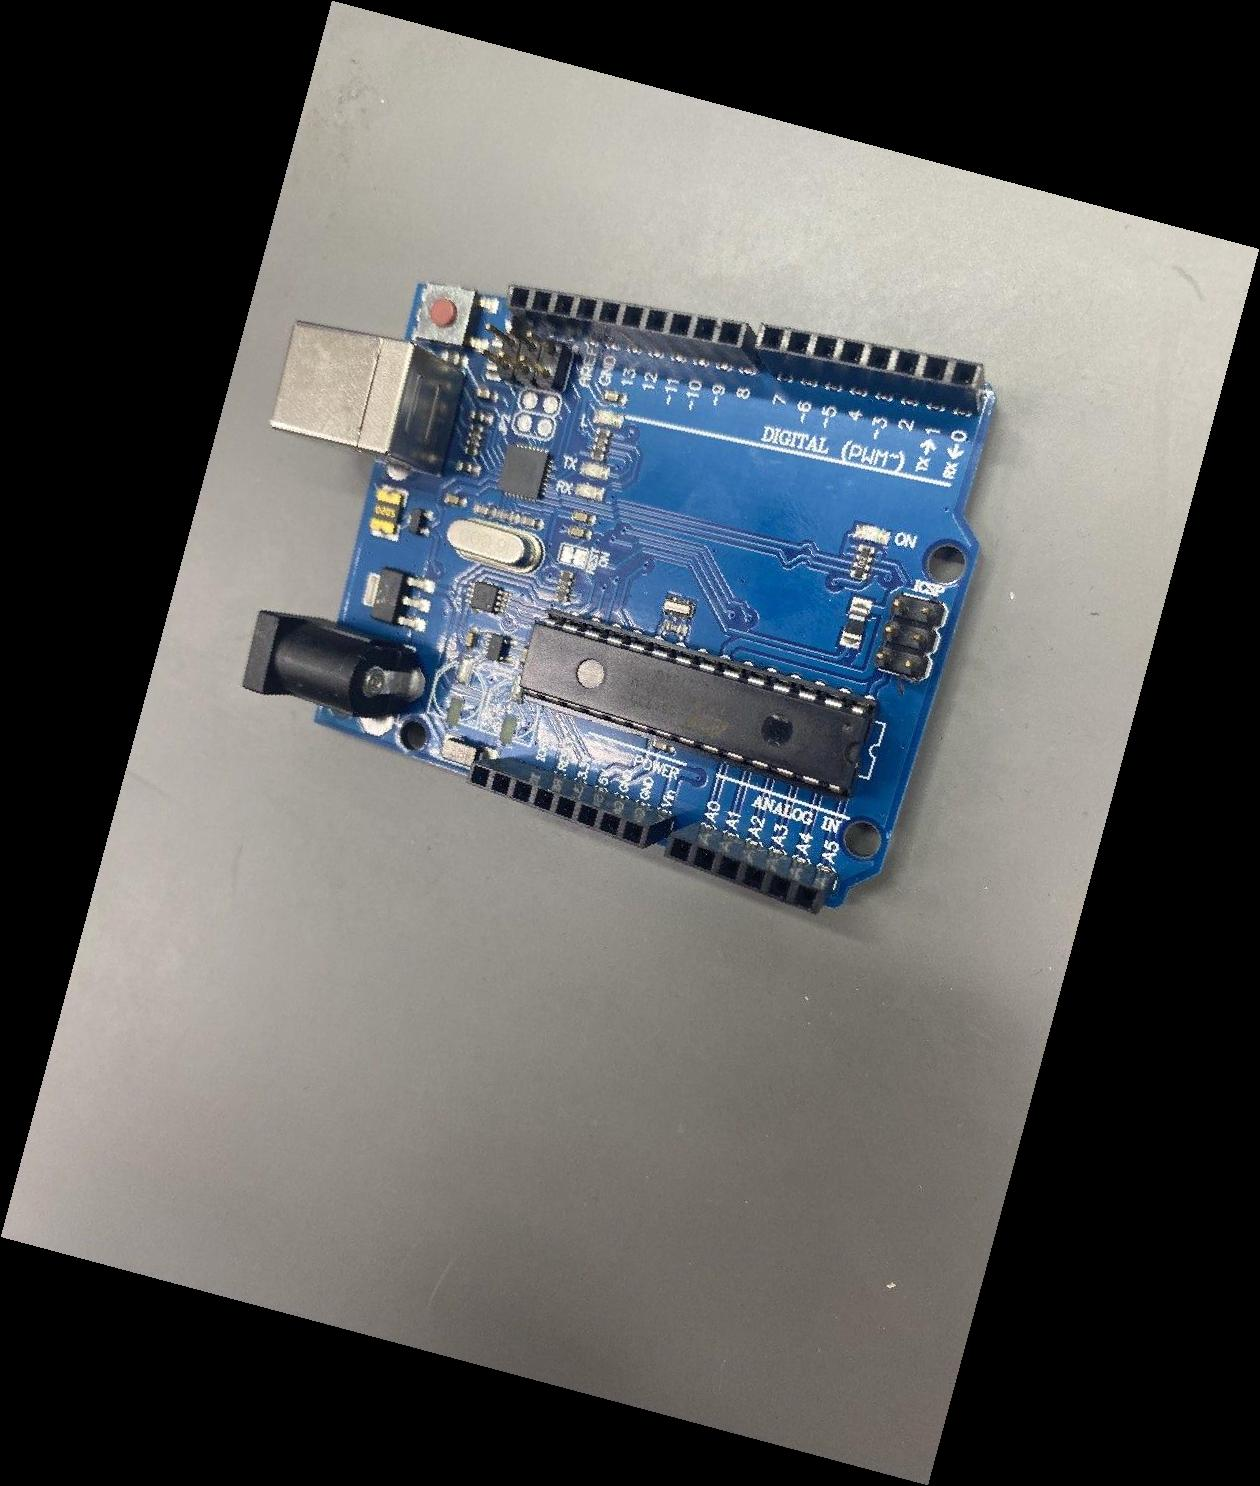ATmega328 chip: (519, 609, 877, 800)
Arduino board: (244, 280, 996, 915)
USB: (270, 321, 465, 476)
pins: (505, 282, 765, 372), (755, 322, 986, 412), (465, 759, 674, 850), (664, 822, 837, 915)
resistor: (849, 544, 875, 582), (590, 427, 611, 462), (554, 570, 575, 601), (464, 424, 484, 456)
